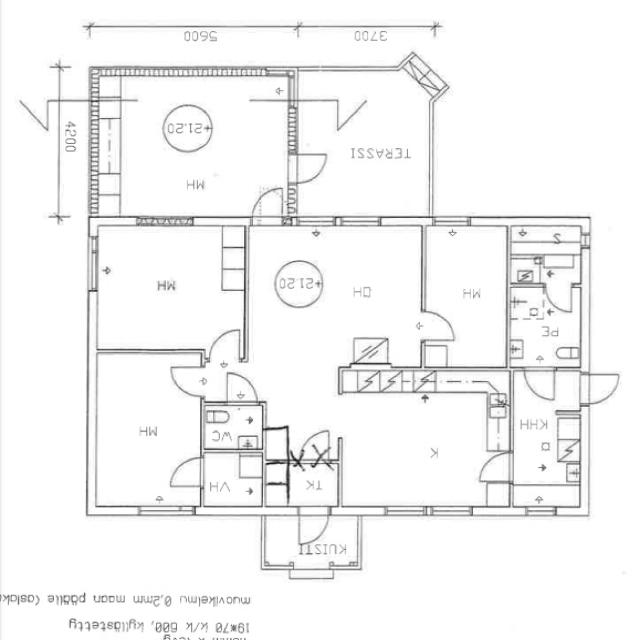door: (205, 370, 264, 451), (248, 185, 286, 228), (416, 308, 460, 344), (204, 326, 243, 365), (165, 454, 206, 490), (288, 151, 330, 186), (298, 431, 334, 470), (296, 506, 330, 547), (223, 370, 261, 406), (168, 364, 208, 398), (478, 449, 515, 485), (584, 372, 620, 406), (524, 368, 558, 403), (544, 282, 574, 316)
window: (82, 233, 102, 296), (136, 502, 196, 519), (335, 213, 384, 230), (430, 502, 474, 520), (288, 564, 336, 580), (384, 502, 429, 519), (431, 214, 478, 228), (295, 214, 339, 228), (398, 50, 418, 77), (522, 506, 558, 520)
zone: (292, 69, 433, 223), (92, 225, 245, 352), (92, 352, 204, 508), (422, 222, 508, 373), (511, 388, 584, 498), (508, 286, 584, 370), (200, 451, 282, 509), (508, 227, 584, 284), (202, 403, 266, 452), (289, 464, 340, 508), (92, 194, 120, 216)
